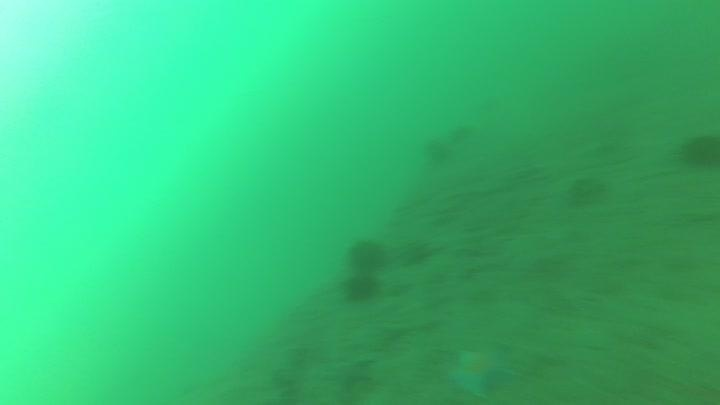echinus: (677, 129, 720, 172), (564, 172, 610, 209), (345, 236, 388, 272), (340, 271, 381, 305), (421, 134, 456, 166), (472, 93, 501, 114), (446, 122, 474, 142)
starfish: (444, 342, 517, 401)
